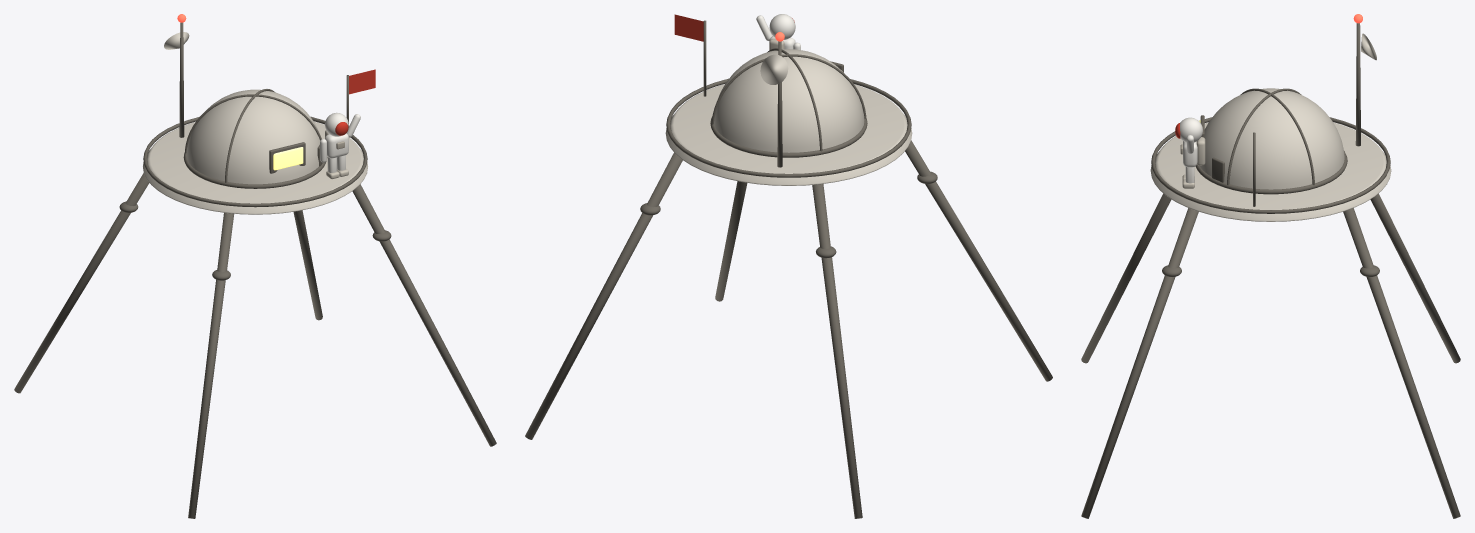
3 renders of one model, left to right at view 1: azimuth 30°, elevation 25°; view 2: azimuth 150°, elevation 25°; view 3: azimuth 270°, elevation 25°, orthographic. The views are drawn at different scales.
Visible parts, largest first — view 1: Dome, Platform, Leg_2, Leg_3, Leg_1, Rim, Leg_0, DomeRing, Window; view 2: Dome, Platform, Leg_1, Leg_0, Leg_2, Rim, Leg_3, DomeRing, AntennaDish, Flag, Seam_35; view 3: Dome, Platform, Leg_0, Leg_3, Leg_1, Leg_2, Rim, DomeRing, Antenna, Helmet.
Boxes of the visible parts, box(x1,y1,x2,y2) form: Dome: box(186, 89, 320, 184); Platform: box(143, 121, 367, 214); Leg_2: box(188, 212, 234, 518); Leg_3: box(352, 184, 496, 446); Leg_1: box(14, 173, 149, 393); Rim: box(143, 116, 367, 207); Leg_0: box(293, 210, 322, 320); DomeRing: box(183, 153, 327, 188); Window: box(273, 147, 303, 170); Dome: box(714, 49, 864, 152); Platform: box(665, 84, 912, 185); Leg_1: box(812, 184, 862, 518); Leg_0: box(525, 153, 682, 439); Leg_2: box(905, 140, 1052, 381); Rim: box(666, 78, 911, 177); Leg_3: box(715, 181, 747, 301); DomeRing: box(710, 116, 867, 157); AntennaDish: box(760, 54, 788, 84); Flag: box(674, 14, 703, 41); Seam_35: box(711, 54, 866, 124); Dome: box(1199, 88, 1344, 189); Platform: box(1150, 122, 1391, 221); Leg_0: box(1343, 208, 1460, 518); Leg_3: box(1081, 208, 1198, 518); Leg_1: box(1370, 193, 1460, 363); Leg_2: box(1081, 193, 1171, 363); Rim: box(1151, 117, 1390, 213); DomeRing: box(1195, 151, 1347, 194); Antenna: box(1355, 23, 1360, 146); Helmet: box(1180, 117, 1202, 142).
Size of the model in its own units: 1.13 by 1.34 by 1.13.
